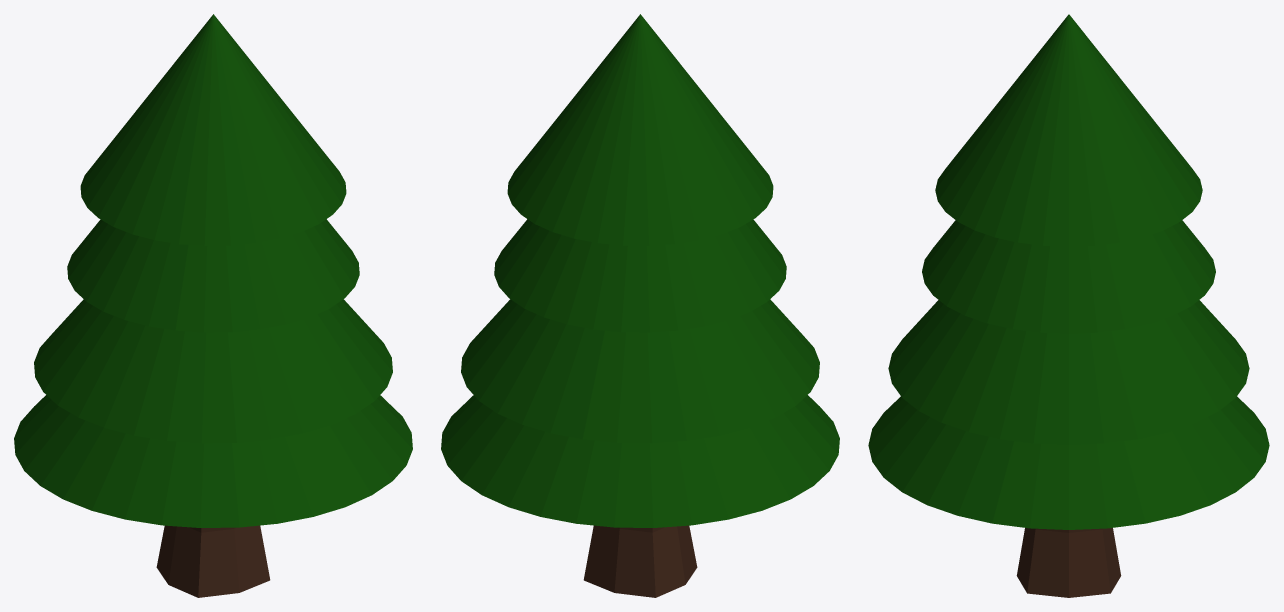
Rendered from tree3.fbx.
3 views of the same model, side by side, from view 1: azimuth 30°, elevation 25°; view 2: azimuth 150°, elevation 25°; view 3: azimuth 270°, elevation 25° (orthographic).
Parts seen in each view (by area): view 1: Cube; view 2: Cube; view 3: Cube.
Part boxes in pixels (x1=…): Cube: x1=14, y1=14, x2=412, y2=597; Cube: x1=441, y1=14, x2=839, y2=597; Cube: x1=868, y1=14, x2=1269, y2=597.
Bounding box in the file's own units: 300 × 464 × 300.
